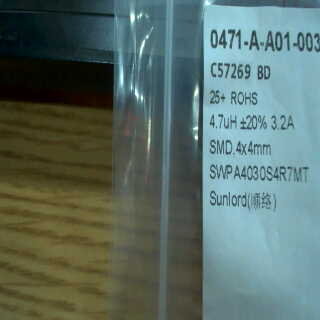4.7uH: (209, 110, 239, 131)
